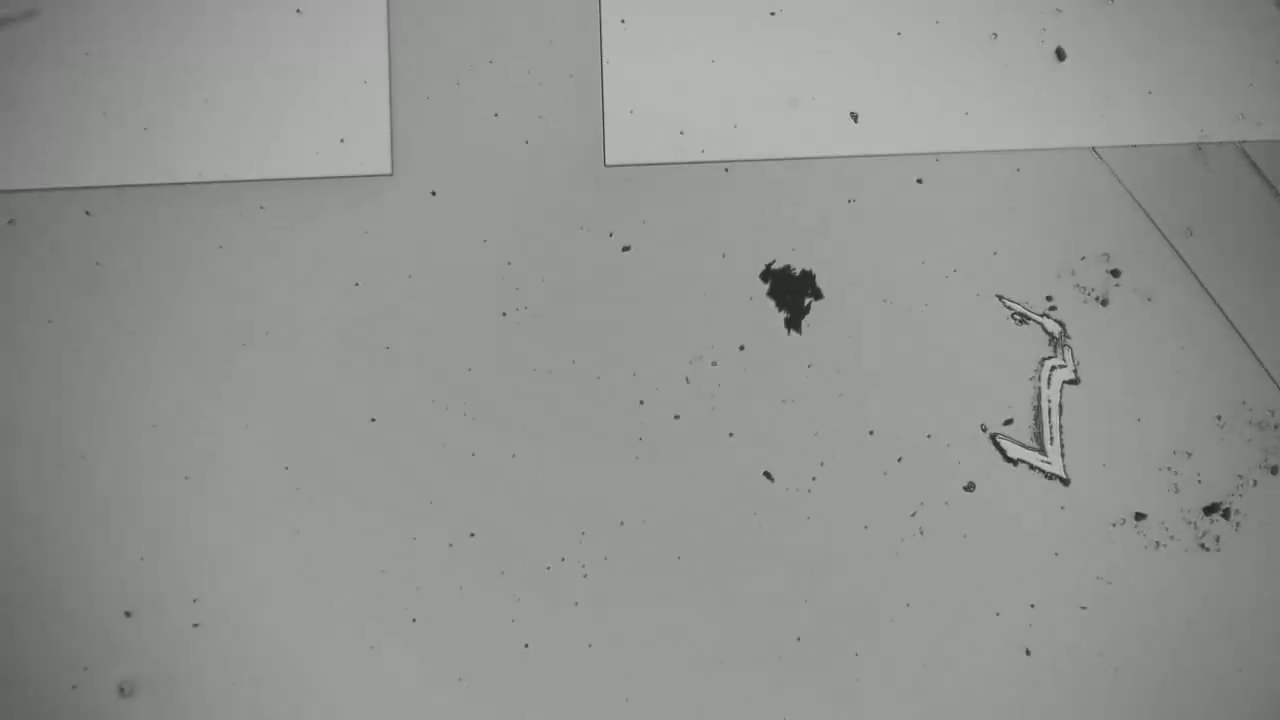scratch: (1087, 145, 1280, 395)
